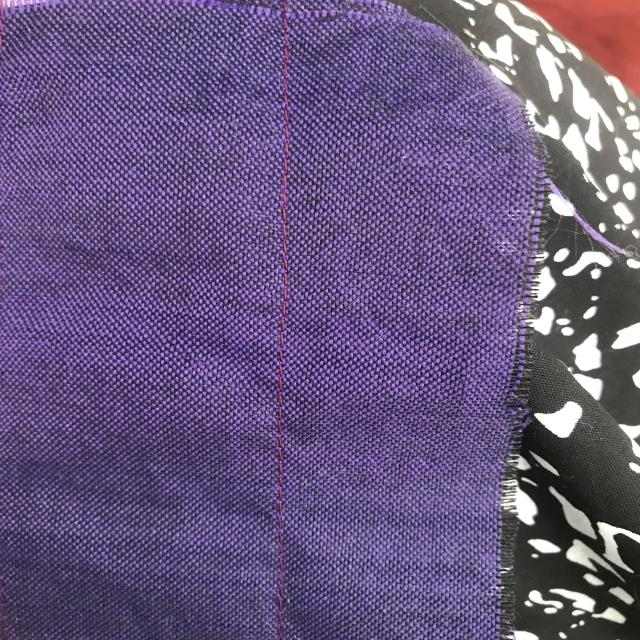good: (264, 344, 305, 532), (266, 72, 304, 274)
